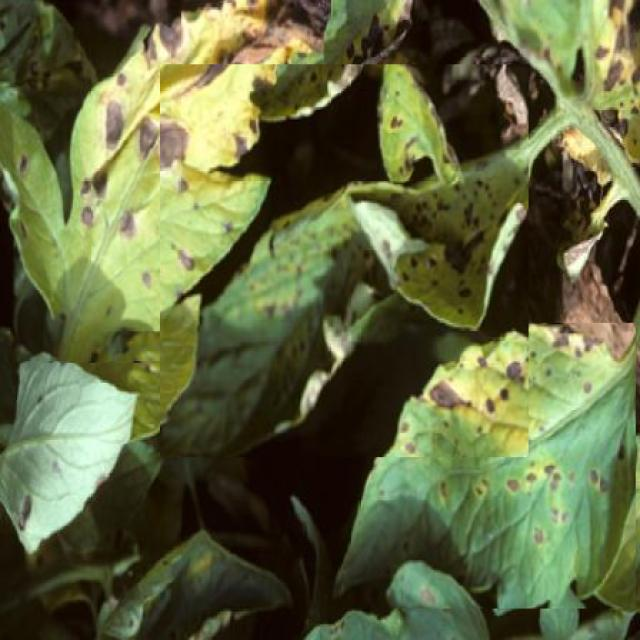Septoria: (160, 64, 529, 457), (0, 0, 324, 363), (338, 324, 636, 609)
